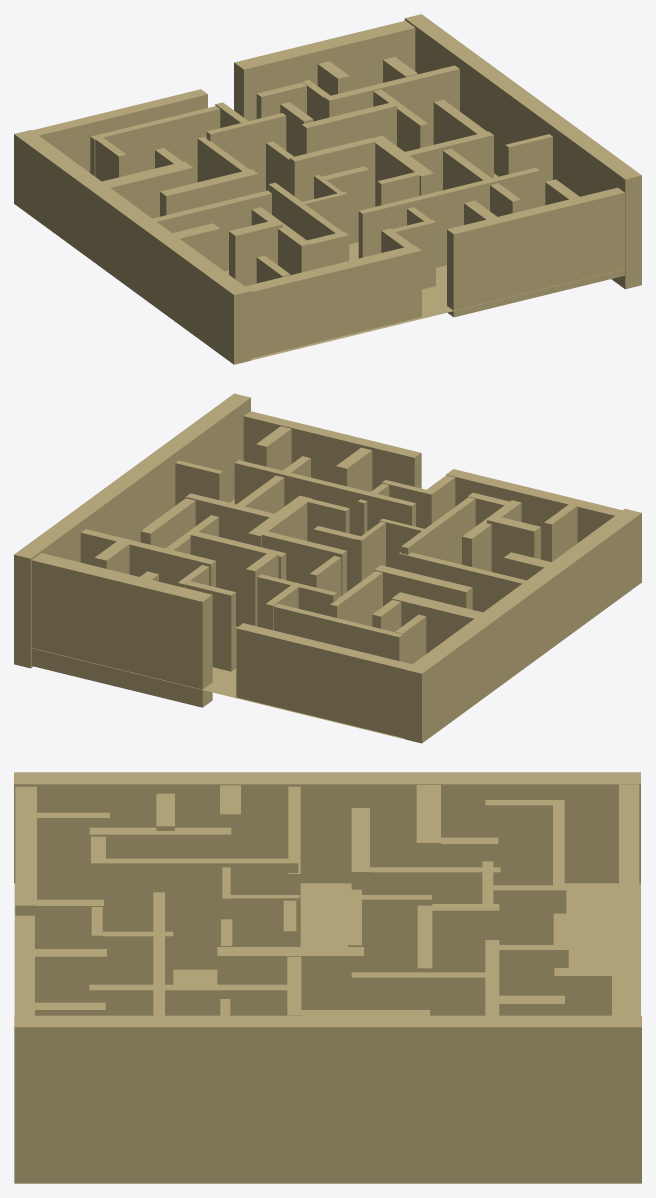
File: labirent2(çöl1).fbx
The picture shows the model from 3 angles, top to bottom: view 1: azimuth 30°, elevation 25°; view 2: azimuth 150°, elevation 25°; view 3: azimuth 270°, elevation 25°; orthographic projection. The views are drawn at different scales.
Parts seen in each view (by area): view 1: Cube, Cube.011, Cube.002, Cube.001, Cube.003, Cube.020, Cube.036, Cube.004, Cube.025, Cube.031, Cube.041, Cube.006 (+30 smaller); view 2: Cube.003, Cube, Cube.002, Cube.004, Cube.011, Cube.020, Cube.001, Cube.036, Cube.025, Cube.031, Cube.006, Cube.010 (+33 smaller); view 3: Cube.002, Cube, Cube.010, Plane, Cube.039, Cube.021, Cube.030, Cube.037, Cube.045, Cube.042, Cube.008, Cube.032 (+29 smaller).
Part boxes in pixels (x1,y1,x2,y2): Cube: (14, 130, 251, 364); Cube.011: (447, 187, 624, 317); Cube.002: (404, 14, 641, 289); Cube.001: (245, 245, 421, 358); Cube.003: (234, 20, 415, 120); Cube.020: (358, 167, 539, 267); Cube.036: (90, 106, 220, 183); Cube.004: (32, 89, 207, 172); Cube.025: (324, 65, 459, 146); Cube.031: (301, 102, 396, 154); Cube.041: (289, 138, 375, 208); Cube.006: (153, 190, 271, 271); Cube.003: (31, 553, 212, 707); Cube: (405, 509, 641, 743); Cube.002: (14, 393, 250, 668); Cube.004: (236, 623, 411, 738); Cube.011: (243, 411, 421, 490); Cube.020: (234, 460, 415, 535); Cube.001: (446, 469, 622, 560); Cube.036: (273, 603, 403, 661); Cube.025: (80, 529, 215, 587); Cube.031: (190, 531, 286, 626); Cube.006: (399, 552, 526, 612); Cube.010: (401, 497, 475, 564); Cube.002: (14, 1015, 641, 1183); Cube: (14, 772, 640, 883); Cube.010: (106, 858, 298, 969); Plane: (14, 883, 640, 1015); Cube.039: (217, 947, 363, 1009); Cube.021: (89, 984, 287, 1015); Cube.030: (351, 972, 485, 1015); Cube.037: (485, 800, 552, 885); Cube.045: (37, 812, 109, 899); Cube.042: (362, 895, 431, 972); Cube.008: (89, 827, 231, 899); Cube.032: (432, 904, 499, 972).
Size of the model in its own units: 624 by 160 by 584.
